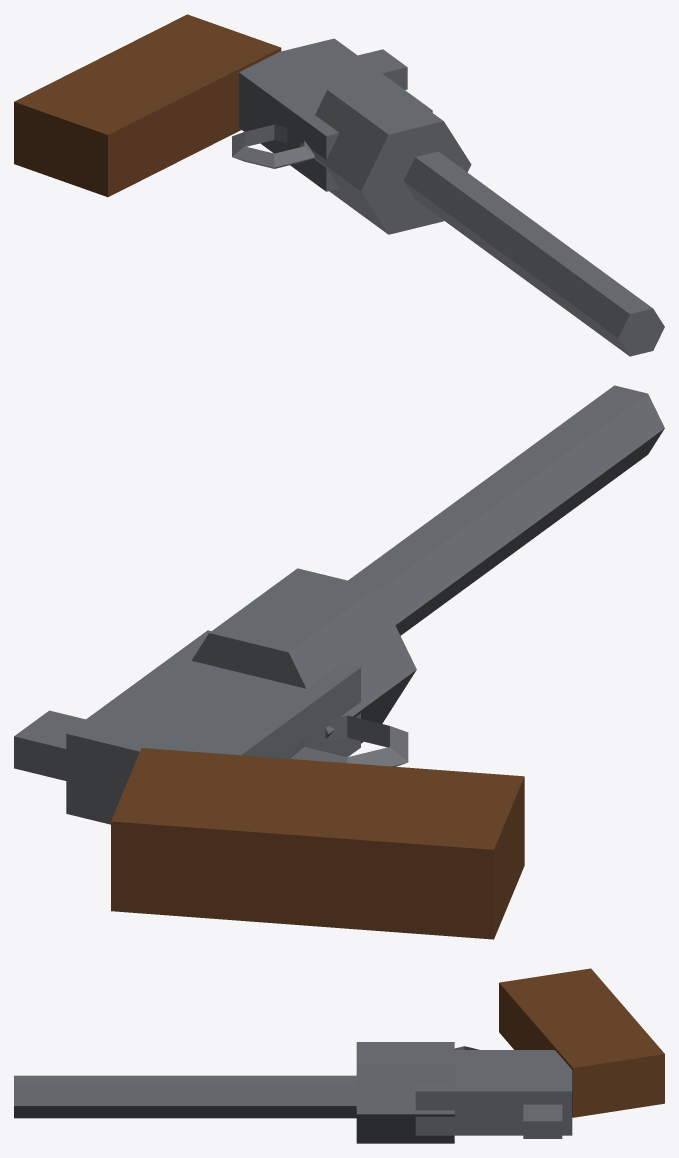
The model's file is SM_Revolver.obj.
3 views of the same model, one above another, from view 1: azimuth 30°, elevation 25°; view 2: azimuth 150°, elevation 25°; view 3: azimuth 270°, elevation 25° (orthographic). The views are drawn at different scales.
Parts seen in each view (by area): view 1: SM_Revolver; view 2: SM_Revolver; view 3: SM_Revolver.
Boxes of the visible parts, box(x1,y1,x2,y2) form: SM_Revolver: box(14, 14, 664, 356); SM_Revolver: box(14, 385, 664, 939); SM_Revolver: box(14, 968, 664, 1143).
Bounding box in the file's own units: 0.1652 × 0.045 × 0.3323.
